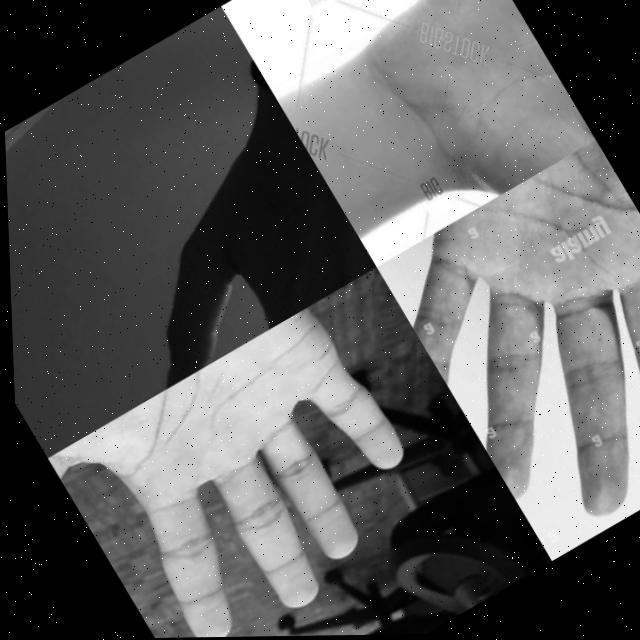no-gloves: (39, 299, 454, 640), (370, 140, 640, 554), (42, 75, 378, 394), (304, 0, 597, 222)
